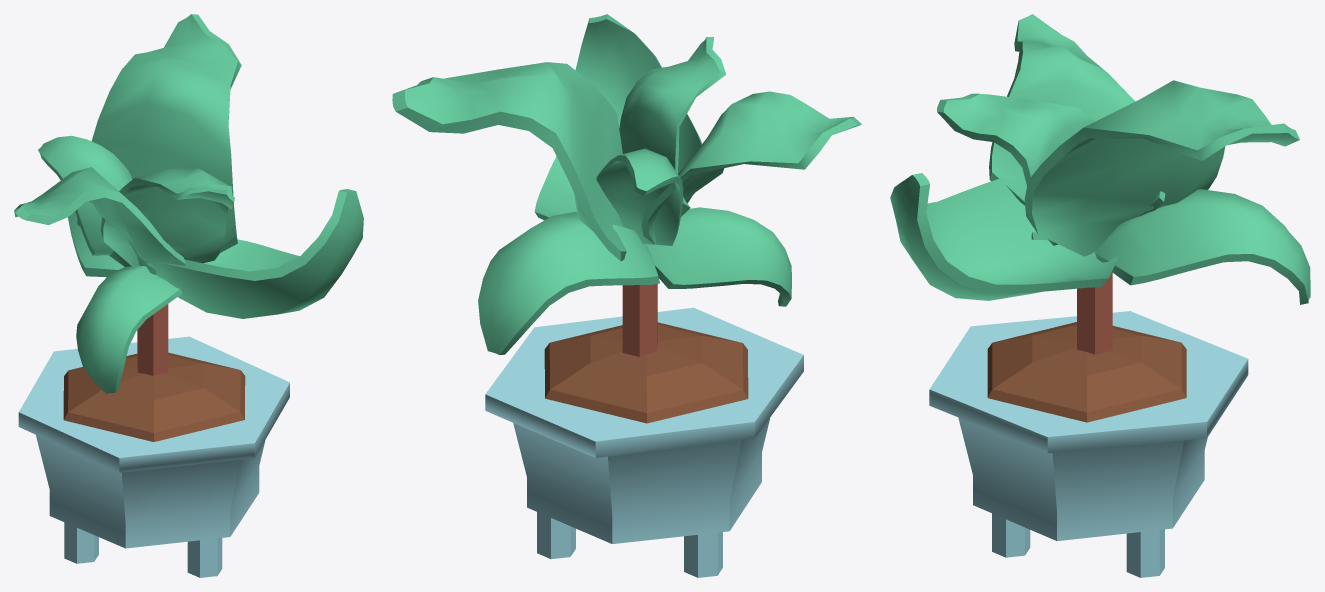
The model's file is FloorPlant_Mesh.fbx.
3 views of the same model, side by side, from view 1: azimuth 30°, elevation 25°; view 2: azimuth 150°, elevation 25°; view 3: azimuth 270°, elevation 25° (orthographic). The views are drawn at different scales.
Visible parts, largest first — view 1: polySurface33; view 2: polySurface33; view 3: polySurface33.
Boxes of the visible parts, <box> form: polySurface33: <box>14,14,363,577</box>; polySurface33: <box>392,14,861,577</box>; polySurface33: <box>890,14,1310,577</box>.
Size of the model in its own units: 14.67 by 20.3 by 15.93.
